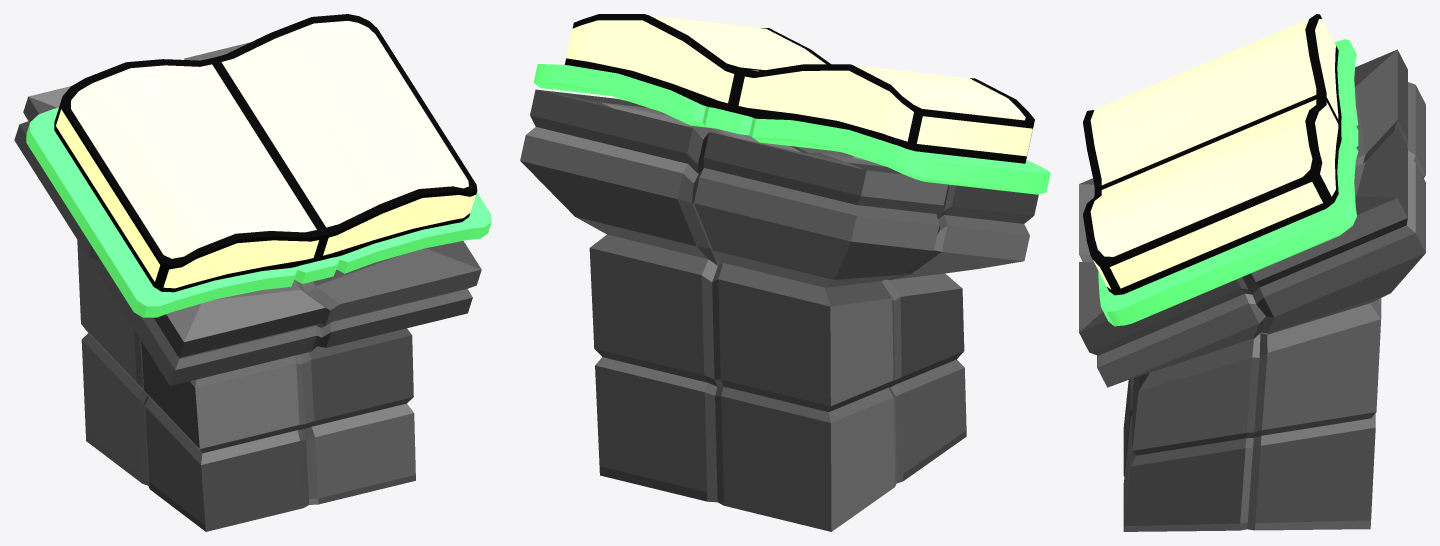
The model's file is BookStand.fbx.
The picture shows the model from 3 angles, left to right: view 1: azimuth 30°, elevation 25°; view 2: azimuth 150°, elevation 25°; view 3: azimuth 270°, elevation 25°; orthographic projection. The views are drawn at different scales.
Visible parts, largest first — view 1: BookStand; view 2: BookStand; view 3: BookStand.
Boxes of the visible parts, <box> form: BookStand: <box>14,14,491,531</box>; BookStand: <box>520,14,1050,531</box>; BookStand: <box>1079,14,1425,531</box>.
Bounding box in the file's own units: 102 × 110 × 85.03.
